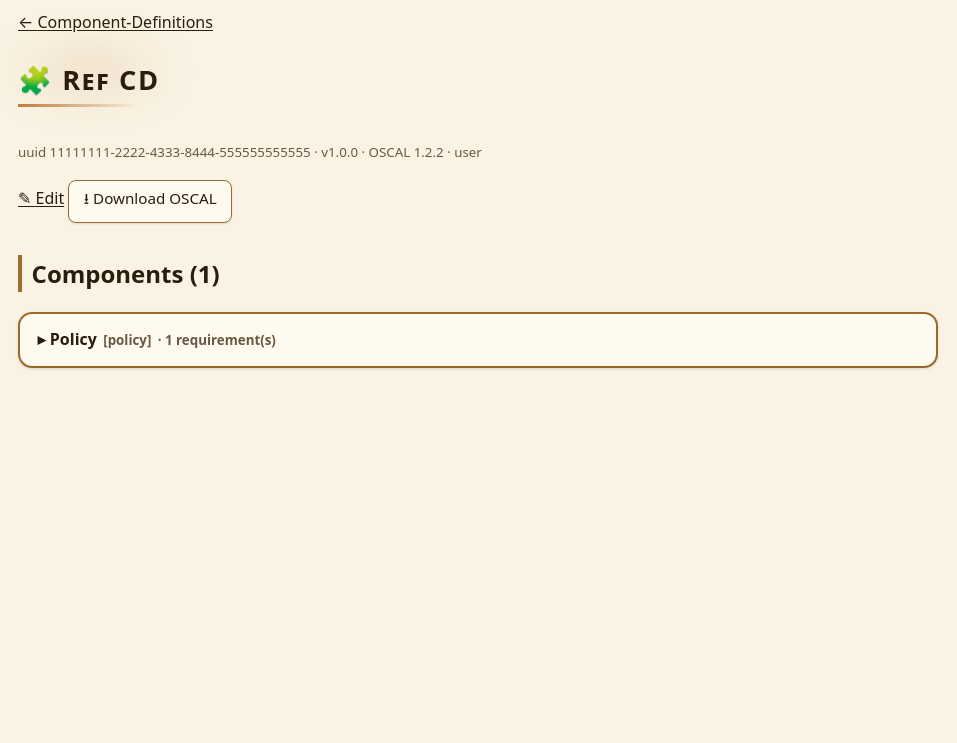
Test: control resolution in detail › falls back to the plain control-id when unresolved
The image size is (957, 743).
Click the button with test id "compdef-component-summary" at (73, 339), box [20,314,936,366]
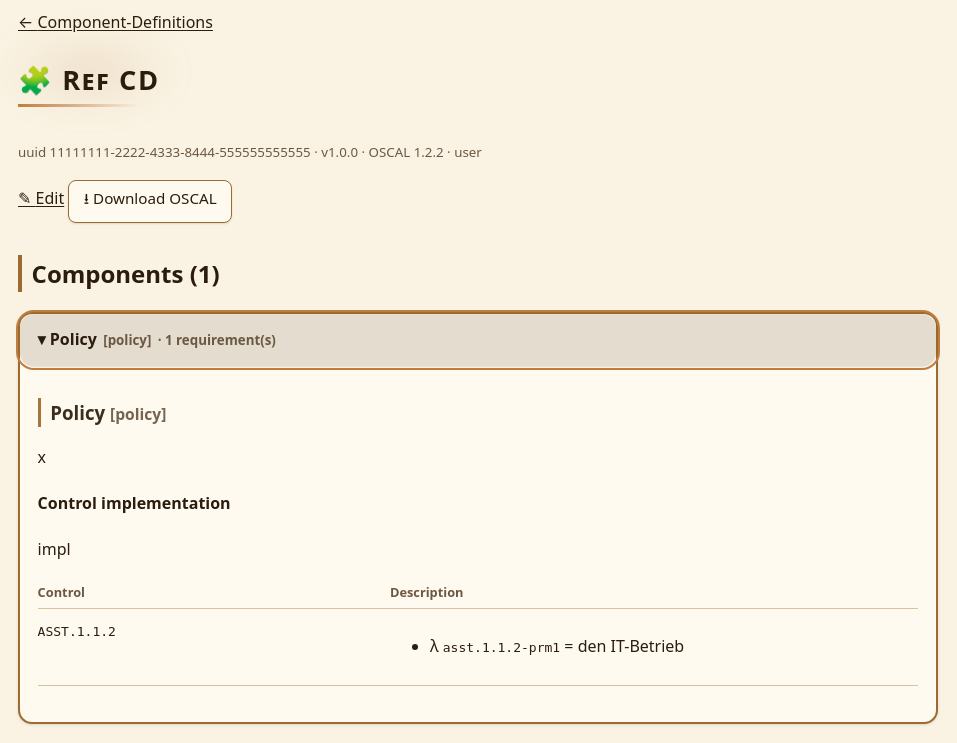
Check: the text with test id "compdef-requirement-unresolved" reads "ASST.1.1.2", box [38,624,116,639]
